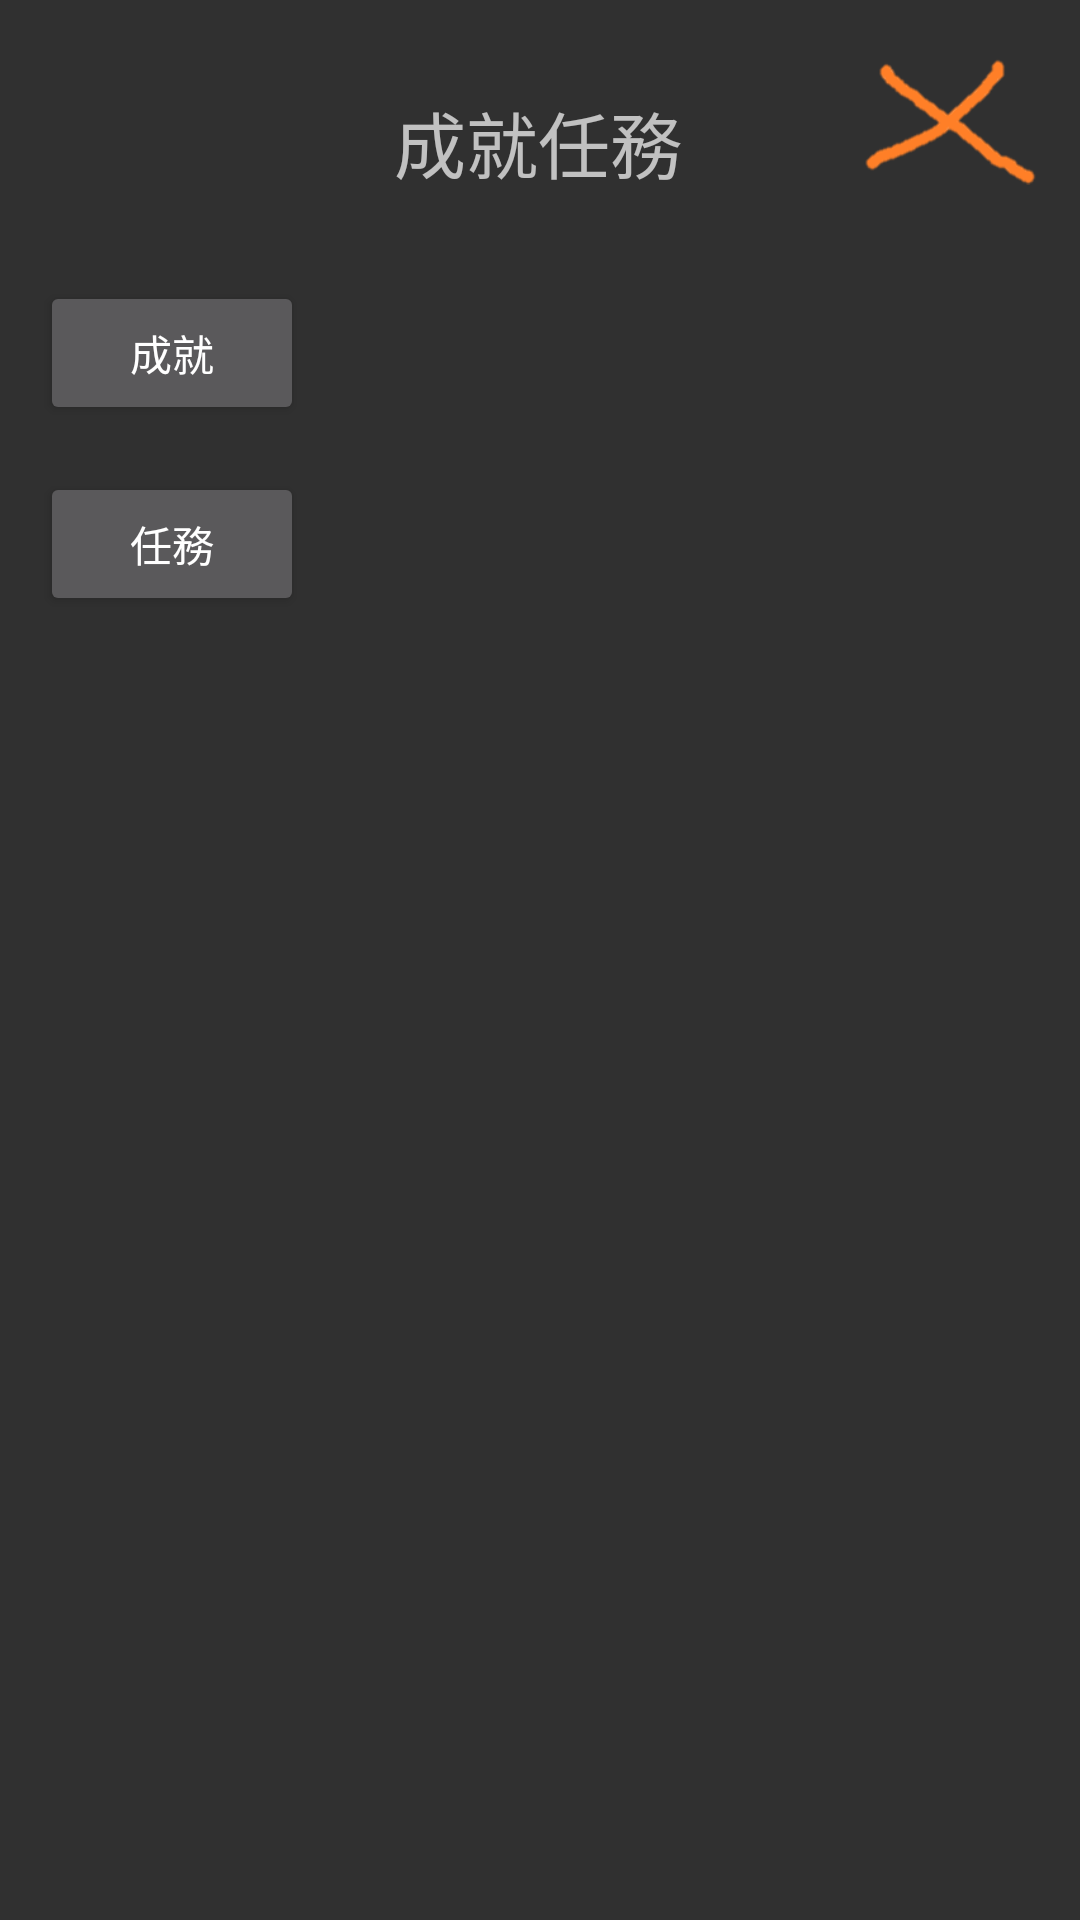

Icons on this 1080px×1920px Android screen, each with its box as (x1, y1, x2, y2):
close: (865, 60, 1035, 185)
